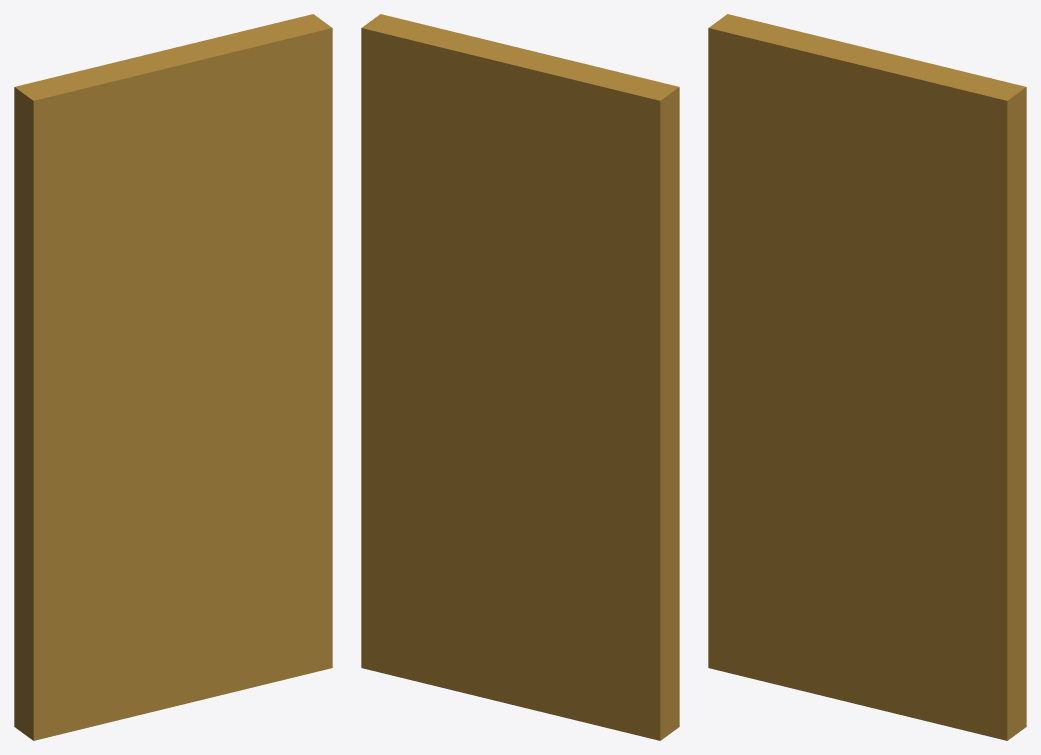
Rendered from Separator.glb.
The picture shows the model from 3 angles, left to right: view 1: azimuth 30°, elevation 25°; view 2: azimuth 150°, elevation 25°; view 3: azimuth 330°, elevation 25°; orthographic projection.
Parts seen in each view (by area): view 1: Cube.001; view 2: Cube.001; view 3: Cube.001.
Part boxes in pixels (x1=…): Cube.001: x1=14, y1=14, x2=332, y2=740; Cube.001: x1=361, y1=14, x2=679, y2=740; Cube.001: x1=708, y1=14, x2=1026, y2=740.
Bounding box in the file's own units: 0.08 × 0.1638 × 0.00887.
